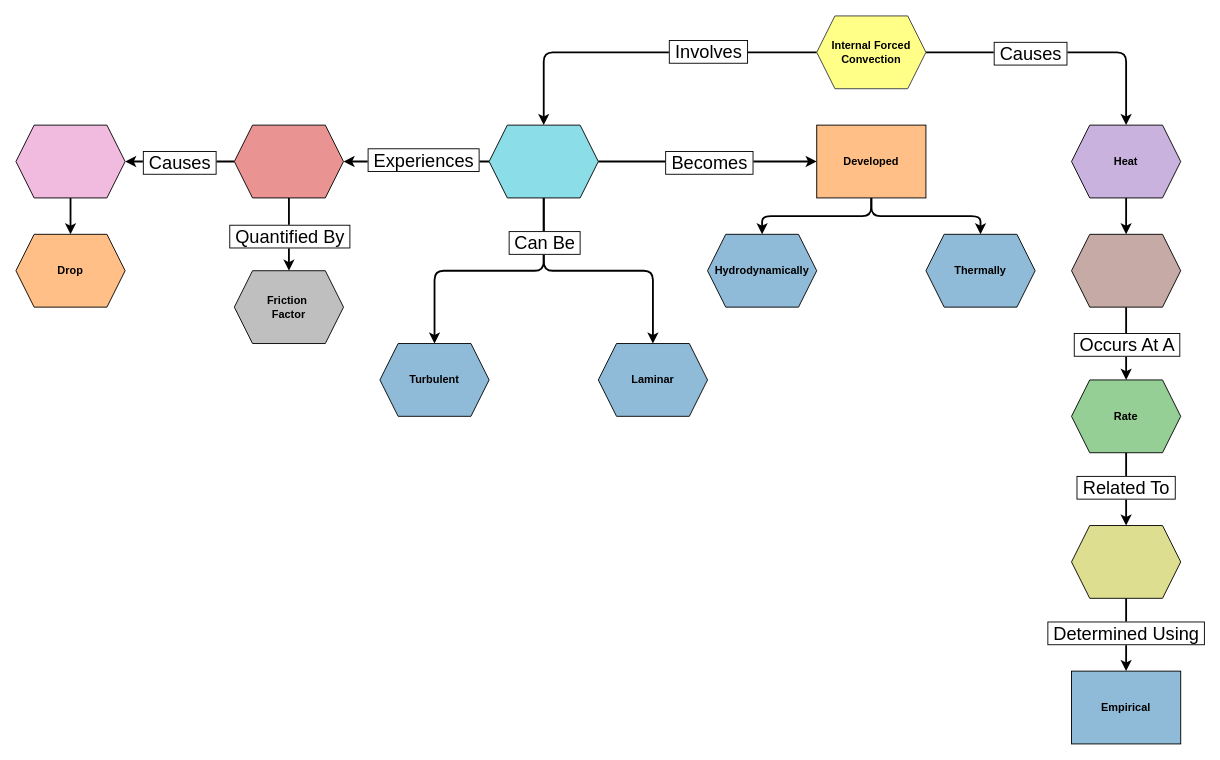
The diagram is 1220 pixels wide and 760 high, and some of its shapes have lost their labels. The shapes that lost their labels are listed below. From the top down, each one's centre as x and y in pixels, then its label:
(70,161): Pressure
(288,161): Friction
(543,161): Flow
(1126,270): Transfer
(1126,561): Nusselt Number (Nu)
